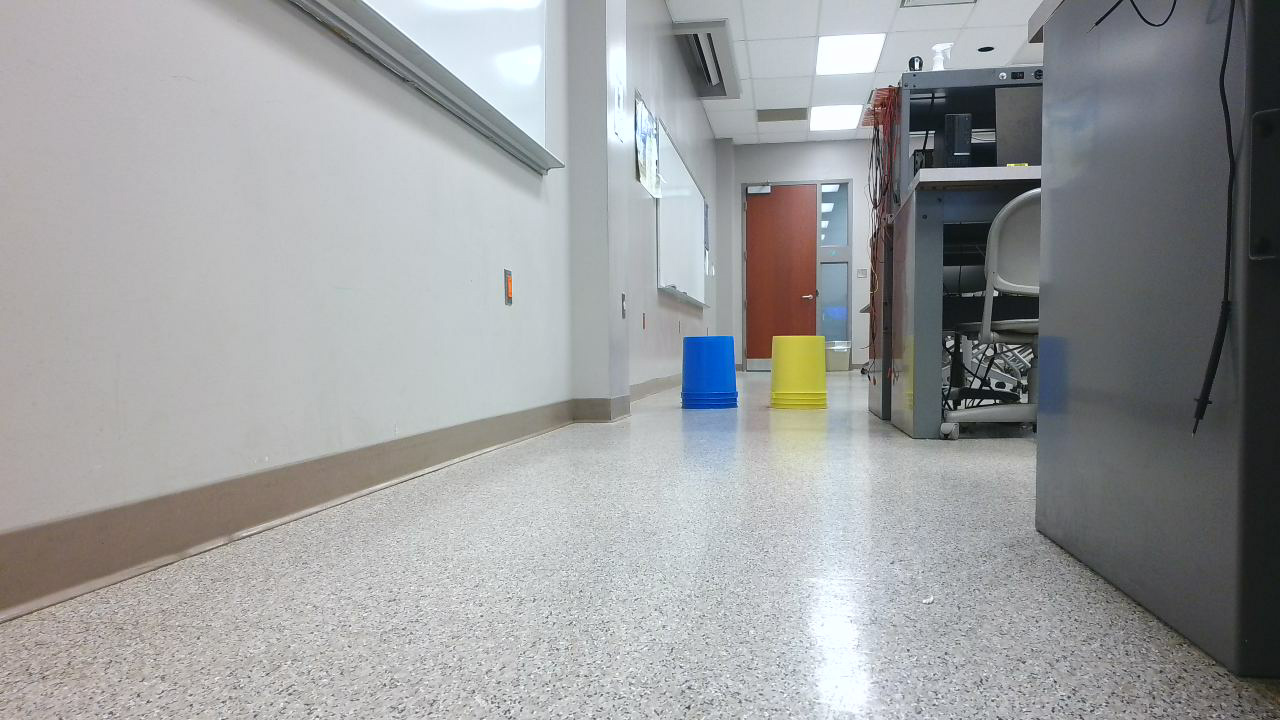blue_bucket: (681, 338, 747, 420)
yellow_bucket: (770, 336, 837, 420)
